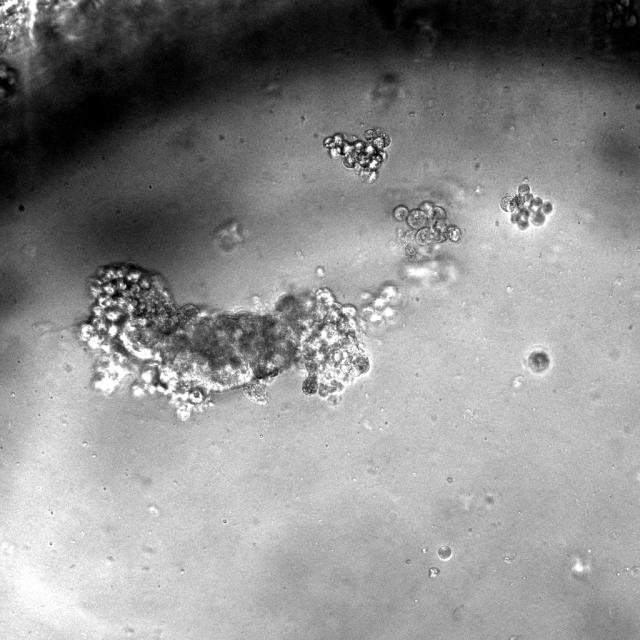organoid: (79, 263, 370, 421), (393, 200, 461, 262), (323, 128, 391, 183), (501, 183, 552, 230), (361, 282, 402, 325), (528, 350, 549, 374)
